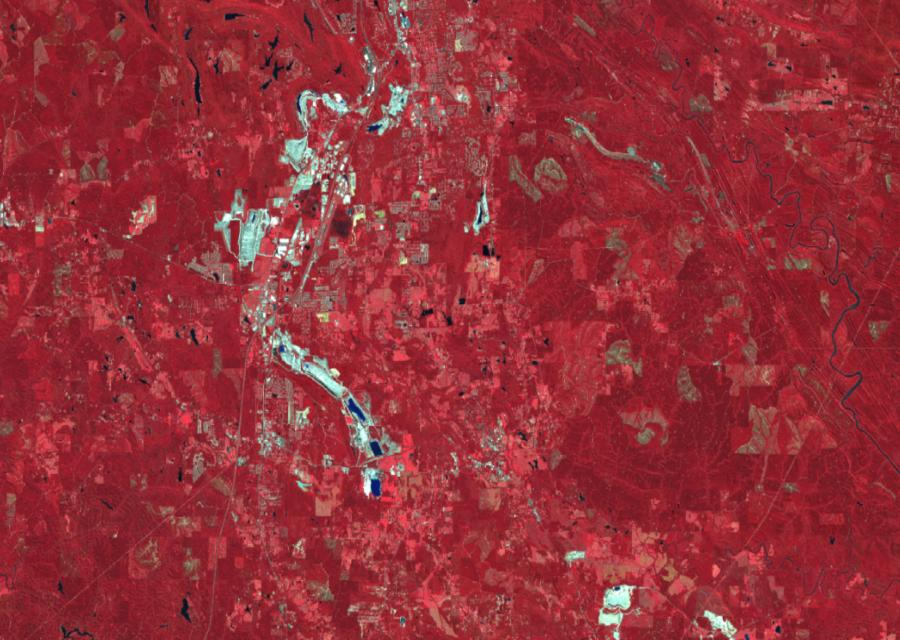Potential Lime Manufacturing Facility: (228, 92, 410, 270), (264, 332, 390, 504)
